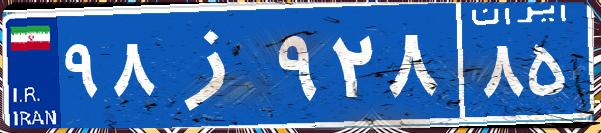2: (330, 28, 385, 110)
5: (525, 38, 570, 115)
8: (385, 28, 445, 110), (475, 38, 525, 113), (110, 28, 158, 105)
9: (273, 28, 330, 110), (57, 26, 110, 107)
ز: (158, 15, 273, 115)
